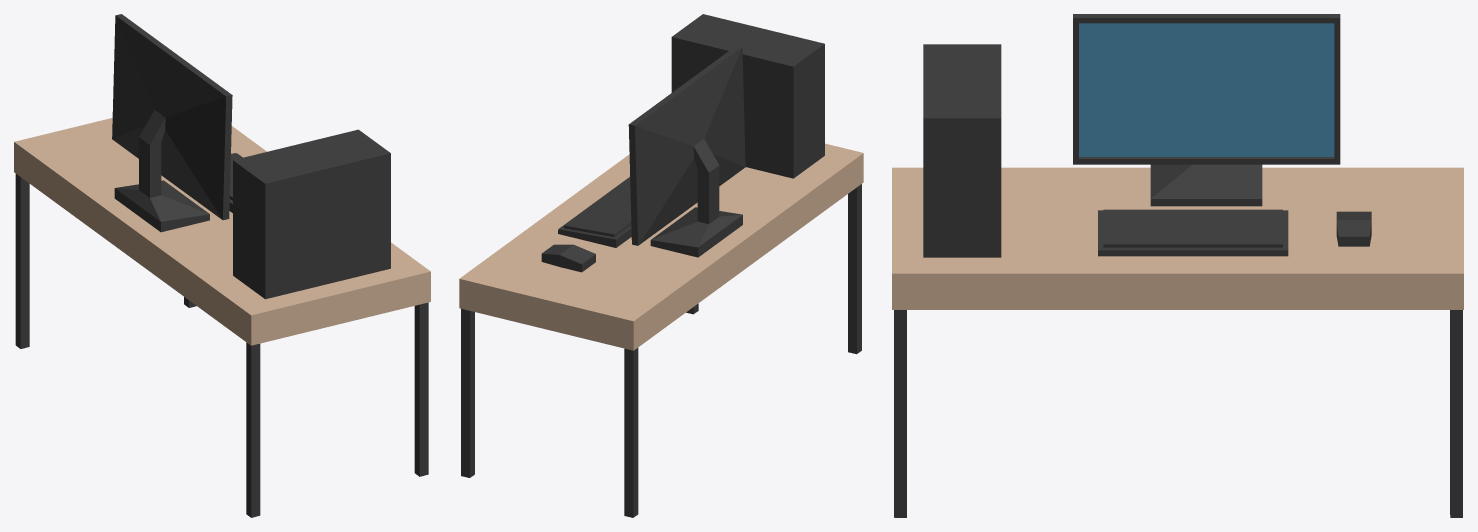
Rendered from desk.glb.
The picture shows the model from 3 angles, left to right: view 1: azimuth 30°, elevation 25°; view 2: azimuth 150°, elevation 25°; view 3: azimuth 270°, elevation 25°; orthographic projection. The views are drawn at different scales.
Visible parts, largest first — view 1: Desk; view 2: Desk; view 3: Desk.
Part boxes in pixels (x1,y1,x2,y2): Desk: (14,14,430,517); Desk: (459,14,863,517); Desk: (892,14,1463,517).
Size of the model in its own units: 2 by 3.78 by 4.57.
1 material, 1 textured.
